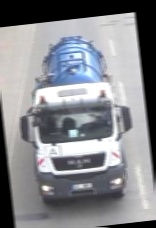truck: (5, 25, 142, 215)
